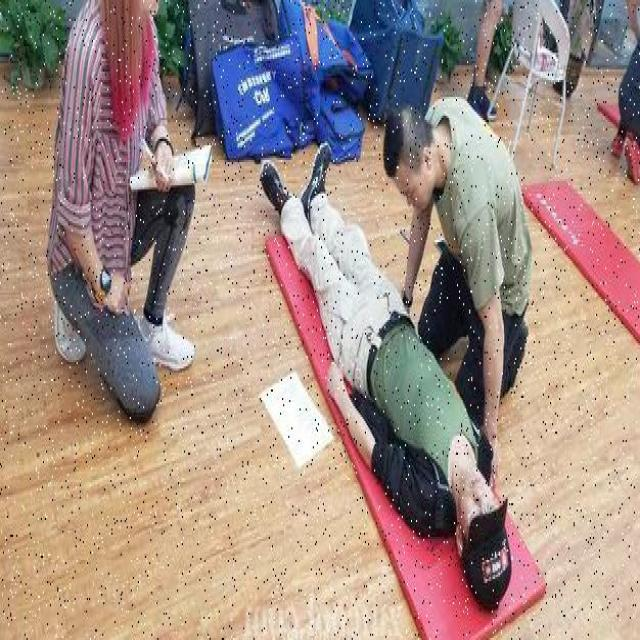fall: (264, 152, 508, 610)
